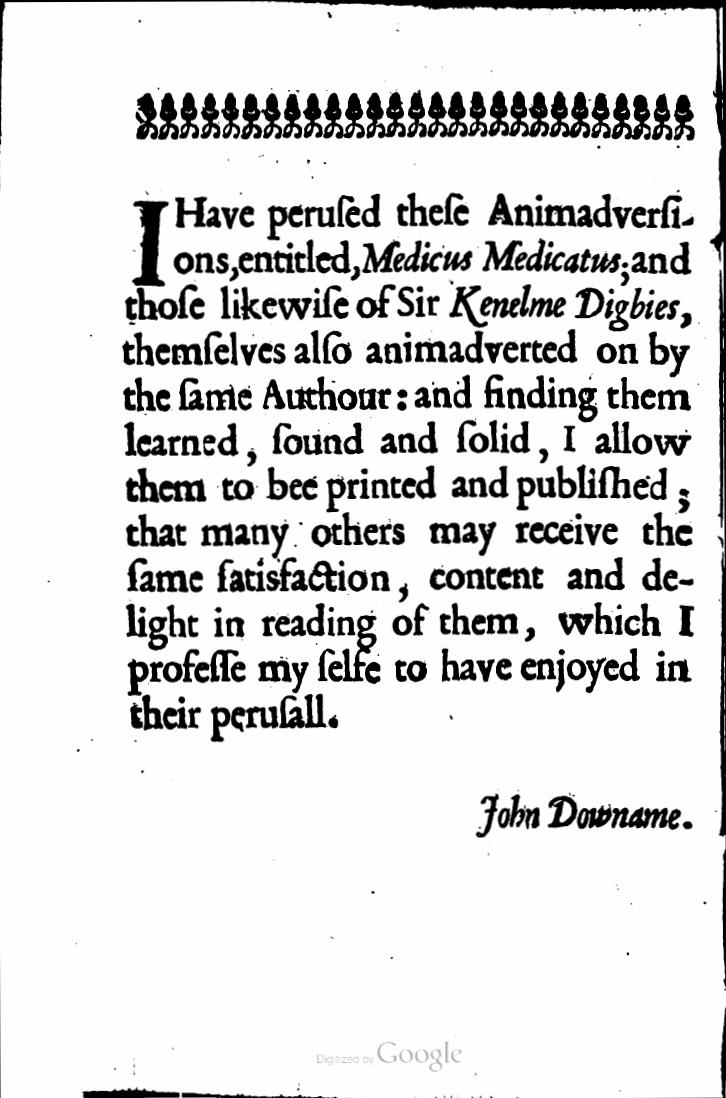full_p: (123, 191, 701, 746), (470, 787, 699, 844)
initial_l: (129, 193, 170, 287)
viz: (131, 89, 697, 147)
